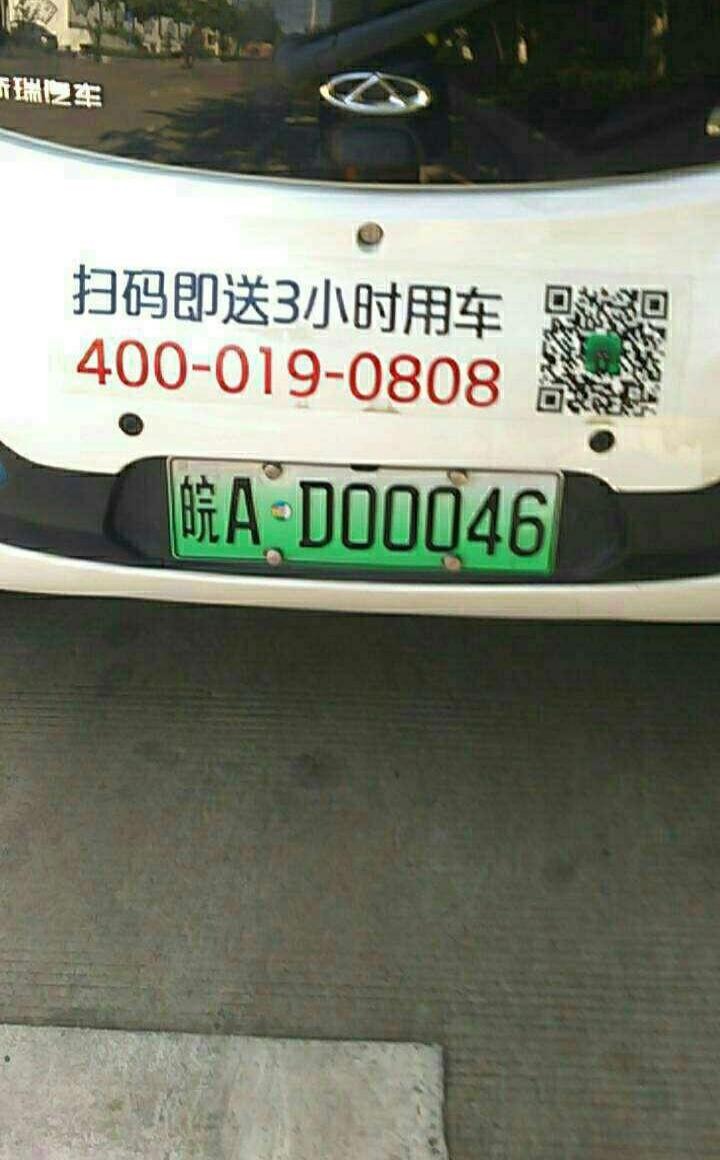car_id: (163, 459, 565, 576)
